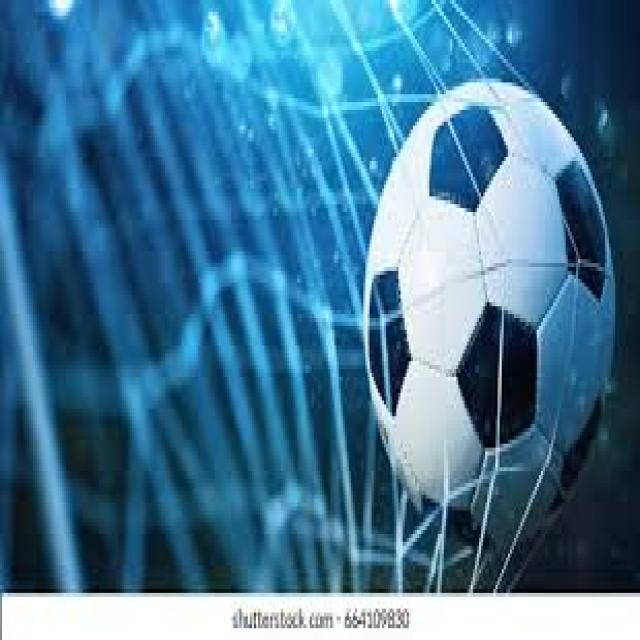ball: (364, 76, 615, 555)
